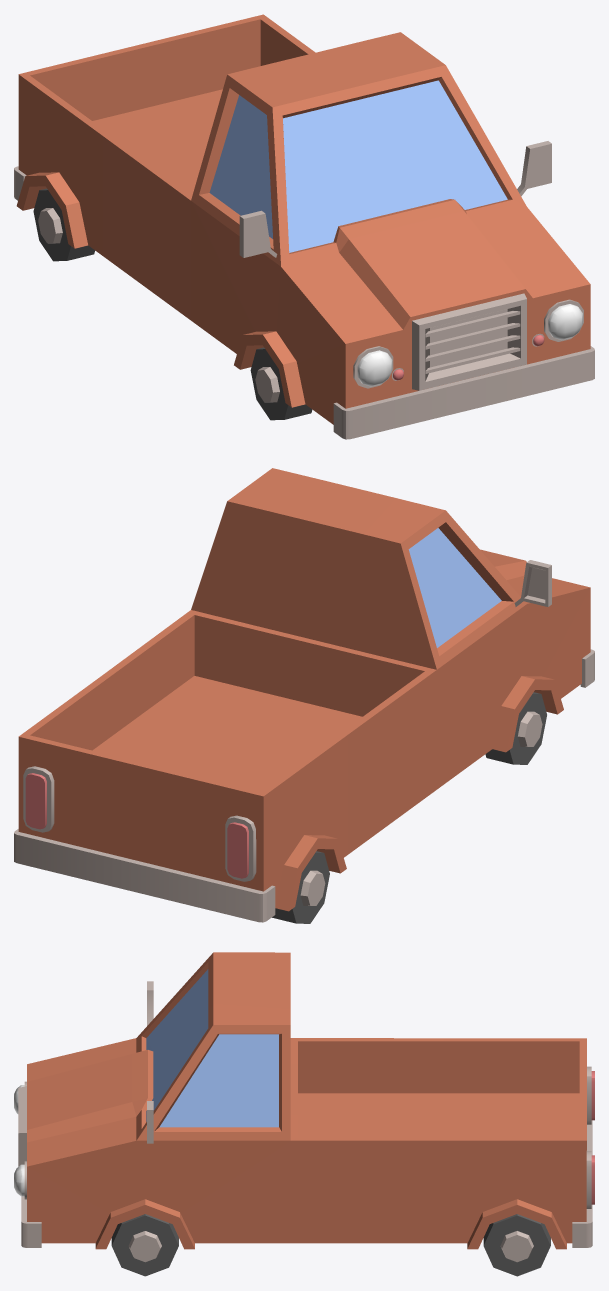
The model's file is Truck.fbx.
3 views of the same model, one above another, from view 1: azimuth 30°, elevation 25°; view 2: azimuth 150°, elevation 25°; view 3: azimuth 270°, elevation 25° (orthographic). The views are drawn at different scales.
Visible parts, largest first — view 1: mesh_truck; view 2: mesh_truck; view 3: mesh_truck.
Part boxes in pixels (x1,y1,x2,y2): mesh_truck: (14, 14, 594, 439); mesh_truck: (14, 468, 594, 923); mesh_truck: (14, 952, 594, 1276).
Bounding box in the file's own units: 1.27 × 1.08 × 2.43.
